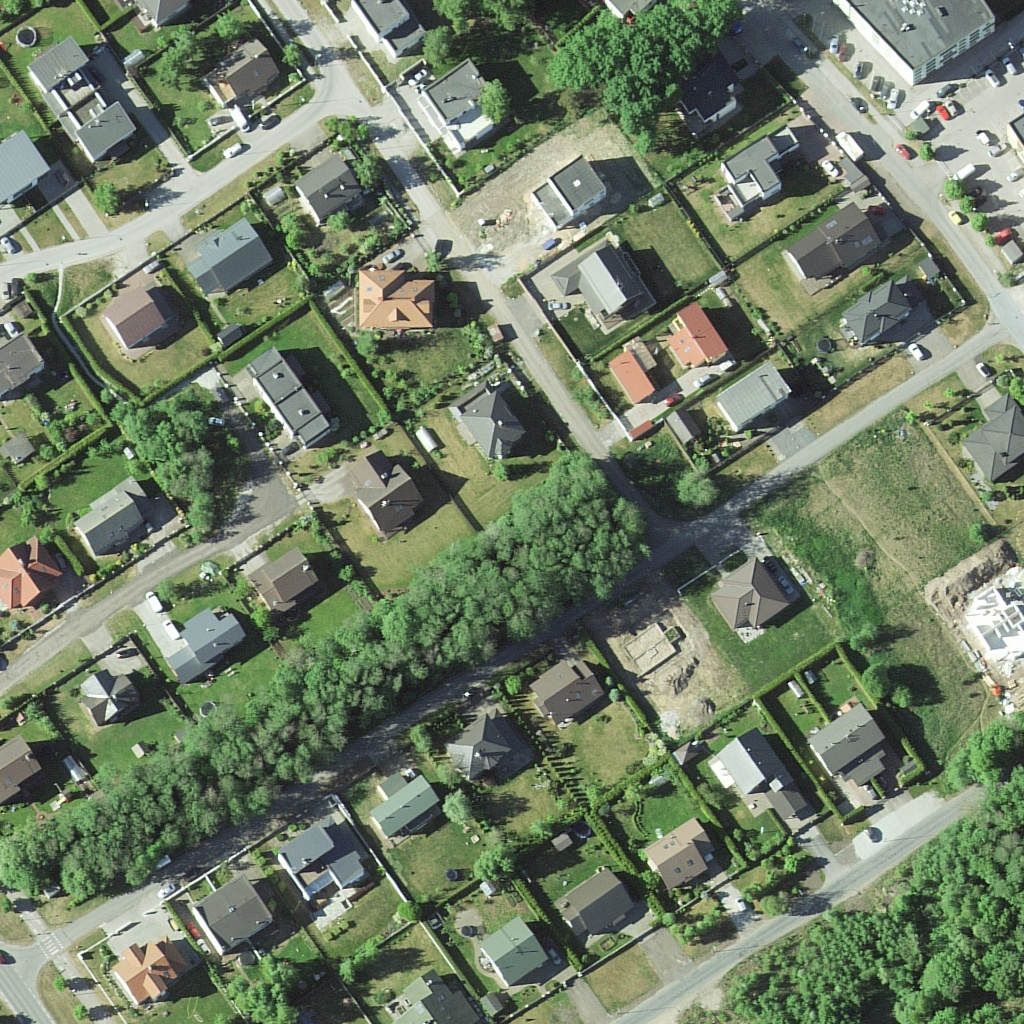building: (829, 1, 1001, 85), (27, 39, 136, 159), (716, 729, 807, 828), (277, 822, 372, 916), (249, 346, 334, 446), (561, 243, 656, 325), (347, 266, 441, 345), (425, 64, 501, 159), (189, 219, 276, 296), (794, 204, 881, 279), (165, 606, 244, 684), (189, 878, 271, 953), (712, 553, 789, 632), (812, 703, 887, 783), (1, 526, 65, 617), (77, 478, 154, 553), (963, 393, 1023, 485), (354, 449, 421, 529), (729, 138, 794, 218), (456, 382, 520, 462), (717, 363, 794, 429), (371, 769, 435, 846), (250, 545, 325, 609), (448, 705, 508, 785), (532, 159, 608, 222), (110, 943, 182, 1009), (296, 156, 361, 229), (531, 656, 609, 716), (674, 63, 740, 133), (571, 861, 627, 942), (668, 306, 734, 372), (396, 969, 473, 1024), (651, 822, 716, 886), (483, 924, 548, 988), (208, 41, 275, 103), (72, 669, 144, 726), (847, 284, 914, 342), (1, 131, 48, 208), (360, 1, 427, 53), (110, 289, 164, 350), (1, 335, 47, 406), (1, 733, 44, 808), (607, 349, 660, 405)
